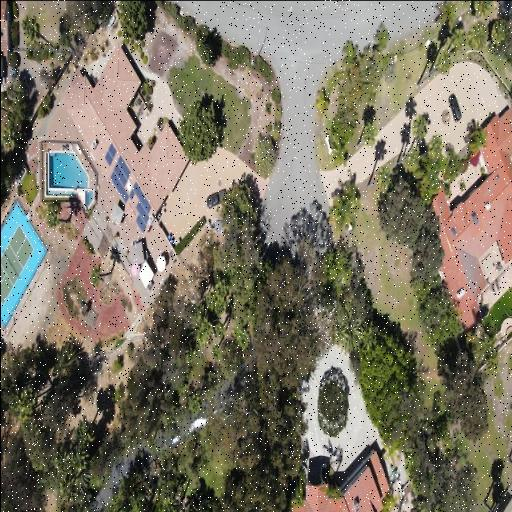solar-panel: (128, 180, 151, 234), (109, 154, 130, 203), (103, 141, 116, 166)
